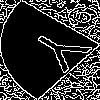Y: (24, 25, 100, 80)
